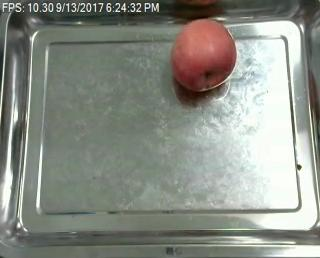apple: (170, 19, 237, 92)
